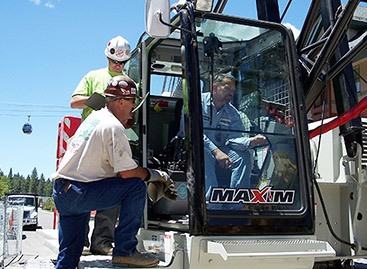crane-operator: (173, 68, 266, 186), (84, 73, 158, 212), (84, 26, 140, 76), (84, 26, 141, 75)
